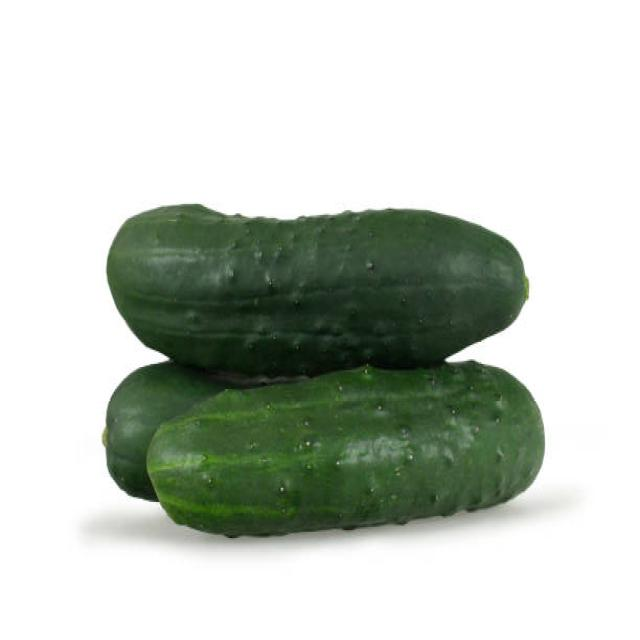cucumber: (147, 358, 545, 540), (106, 202, 527, 374)
